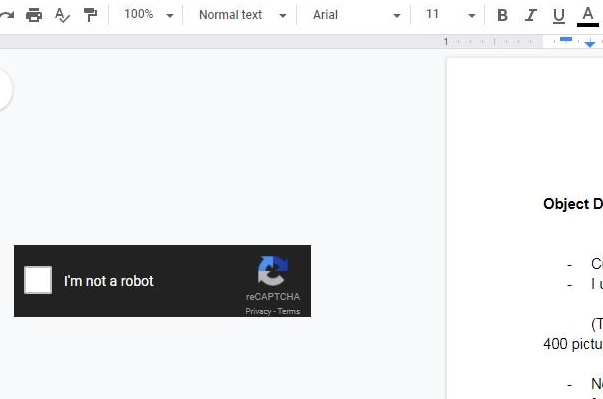captcha: (23, 265, 161, 294)
